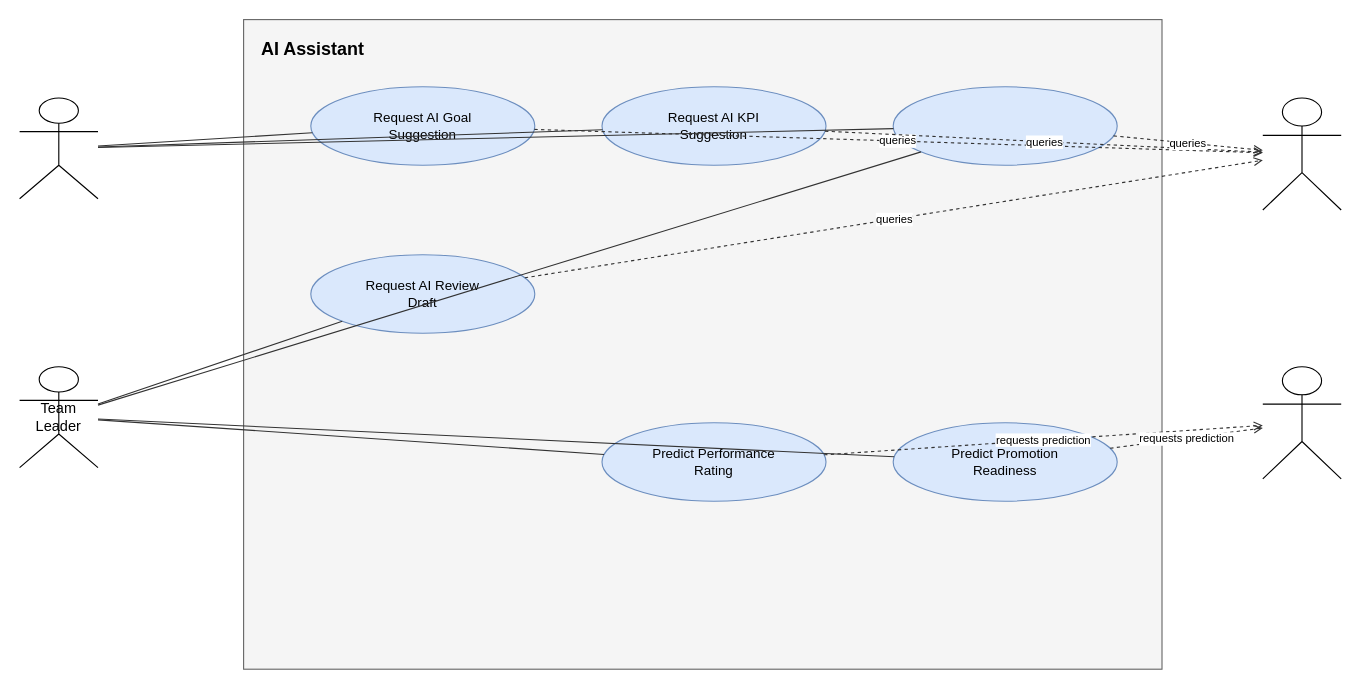
This 1361x689 diagram has some shape labels left out. The centre of each missing label's shape, as x and y in pixels:
"AI Provider (Grok / OpenAI / Gemini)" belongs at [1301,153].
"Analyze Objective Quality (SMART Check)" belongs at [1004,125].
"Collaborator" belongs at [58,148].
"ML Prediction Service (Flask)" belongs at [1301,422].
